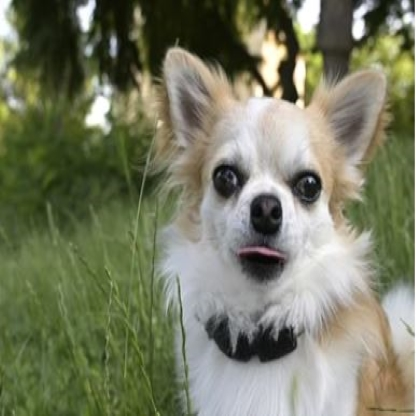chihuahua: (146, 43, 416, 413)
